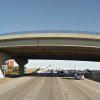Bridge: (4, 24, 96, 64)
